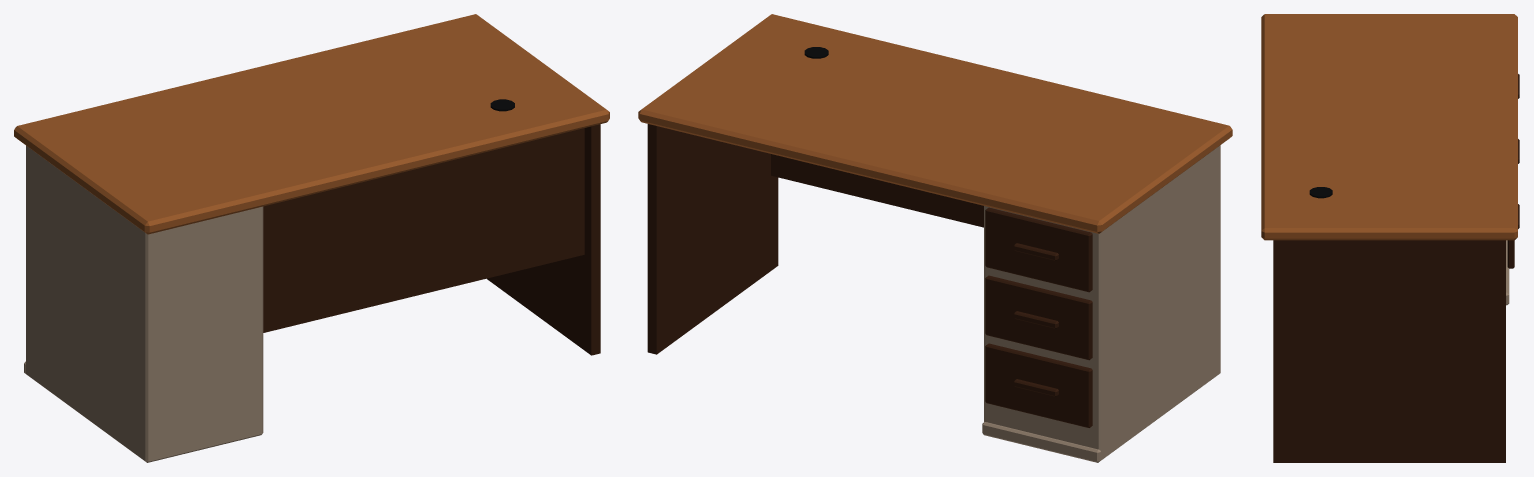
File: INTERIOR_04_OfficeDesk.obj
3 views of the same model, side by side, from view 1: azimuth 30°, elevation 25°; view 2: azimuth 150°, elevation 25°; view 3: azimuth 270°, elevation 25° (orthographic). The views are drawn at different scales.
Visible parts, largest first — view 1: INTERIOR_04_OfficeDesk_Top, INTERIOR_04_OfficeDesk_Pedestal, INTERIOR_04_OfficeDesk_Modesty_Panel, INTERIOR_04_OfficeDesk_Side_Panel; view 2: INTERIOR_04_OfficeDesk_Top, INTERIOR_04_OfficeDesk_Pedestal, INTERIOR_04_OfficeDesk_Side_Panel, INTERIOR_04_OfficeDesk_Drawer_2, INTERIOR_04_OfficeDesk_Drawer_3, INTERIOR_04_OfficeDesk_Drawer_1, INTERIOR_04_OfficeDesk_Modesty_Panel; view 3: INTERIOR_04_OfficeDesk_Top, INTERIOR_04_OfficeDesk_Side_Panel, INTERIOR_04_OfficeDesk_Drawer_1.
Part boxes in pixels (x1,y1,x2,y2): INTERIOR_04_OfficeDesk_Top: (14,14,609,234); INTERIOR_04_OfficeDesk_Pedestal: (24,145,263,462); INTERIOR_04_OfficeDesk_Modesty_Panel: (263,128,584,332); INTERIOR_04_OfficeDesk_Side_Panel: (487,124,600,355); INTERIOR_04_OfficeDesk_Top: (638,14,1232,233); INTERIOR_04_OfficeDesk_Pedestal: (982,145,1220,462); INTERIOR_04_OfficeDesk_Side_Panel: (647,124,778,354); INTERIOR_04_OfficeDesk_Drawer_2: (985,275,1092,360); INTERIOR_04_OfficeDesk_Drawer_3: (985,207,1092,292); INTERIOR_04_OfficeDesk_Drawer_1: (985,343,1092,427); INTERIOR_04_OfficeDesk_Modesty_Panel: (771,154,983,227); INTERIOR_04_OfficeDesk_Top: (1261,14,1517,240); INTERIOR_04_OfficeDesk_Side_Panel: (1273,240,1505,462); INTERIOR_04_OfficeDesk_Drawer_1: (1507,204,1519,268).
Size of the model in its own units: 1.5 by 0.765 by 0.755.
